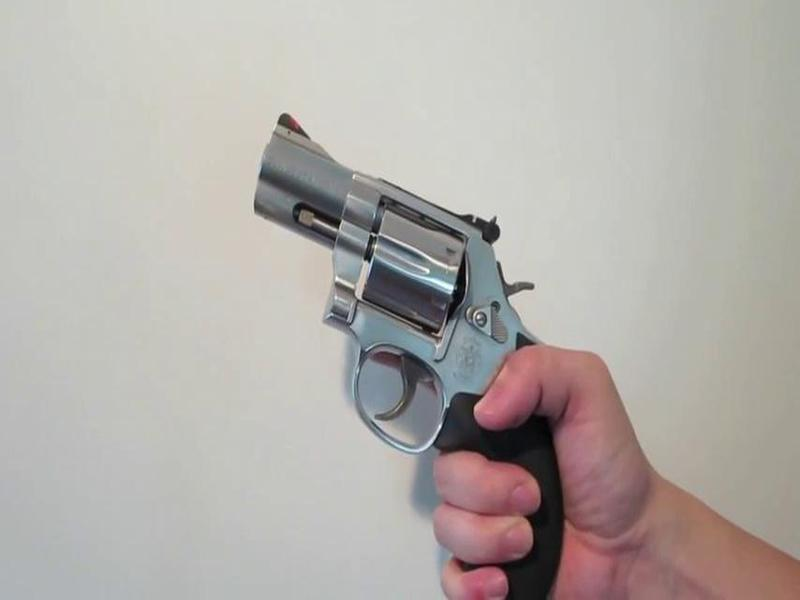Revolver: (238, 105, 594, 597)
